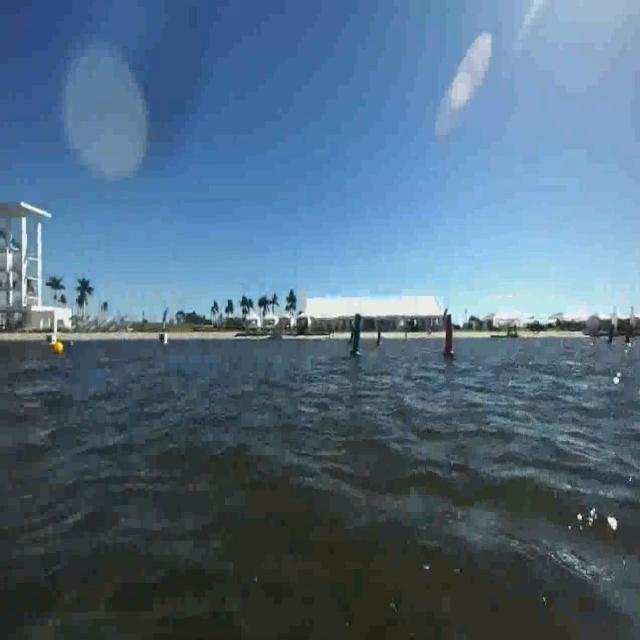green-column-buoy: (346, 307, 366, 366)
red-column-buoy: (436, 310, 459, 360)
yellow-buoy: (52, 336, 64, 356)
